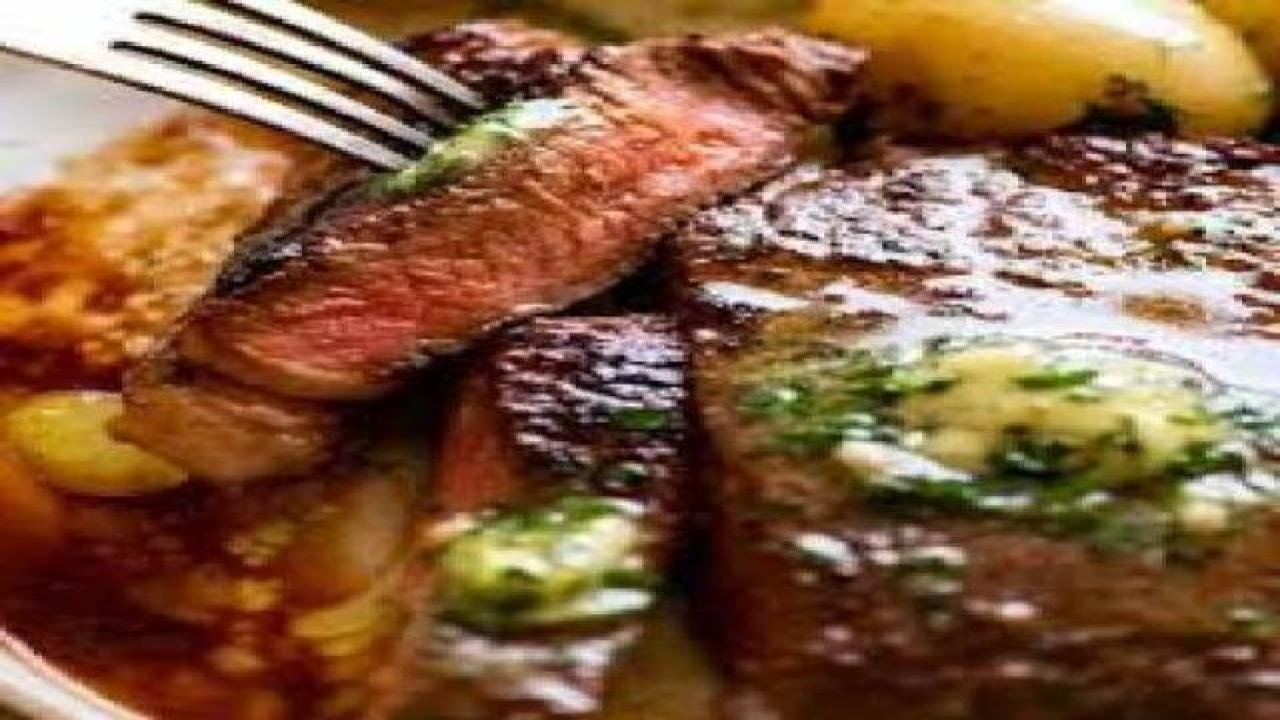done: (723, 98, 1280, 686), (118, 82, 903, 401)
